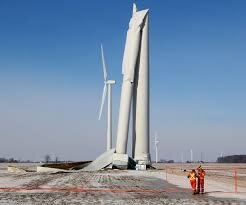faulty: (116, 2, 159, 136)
